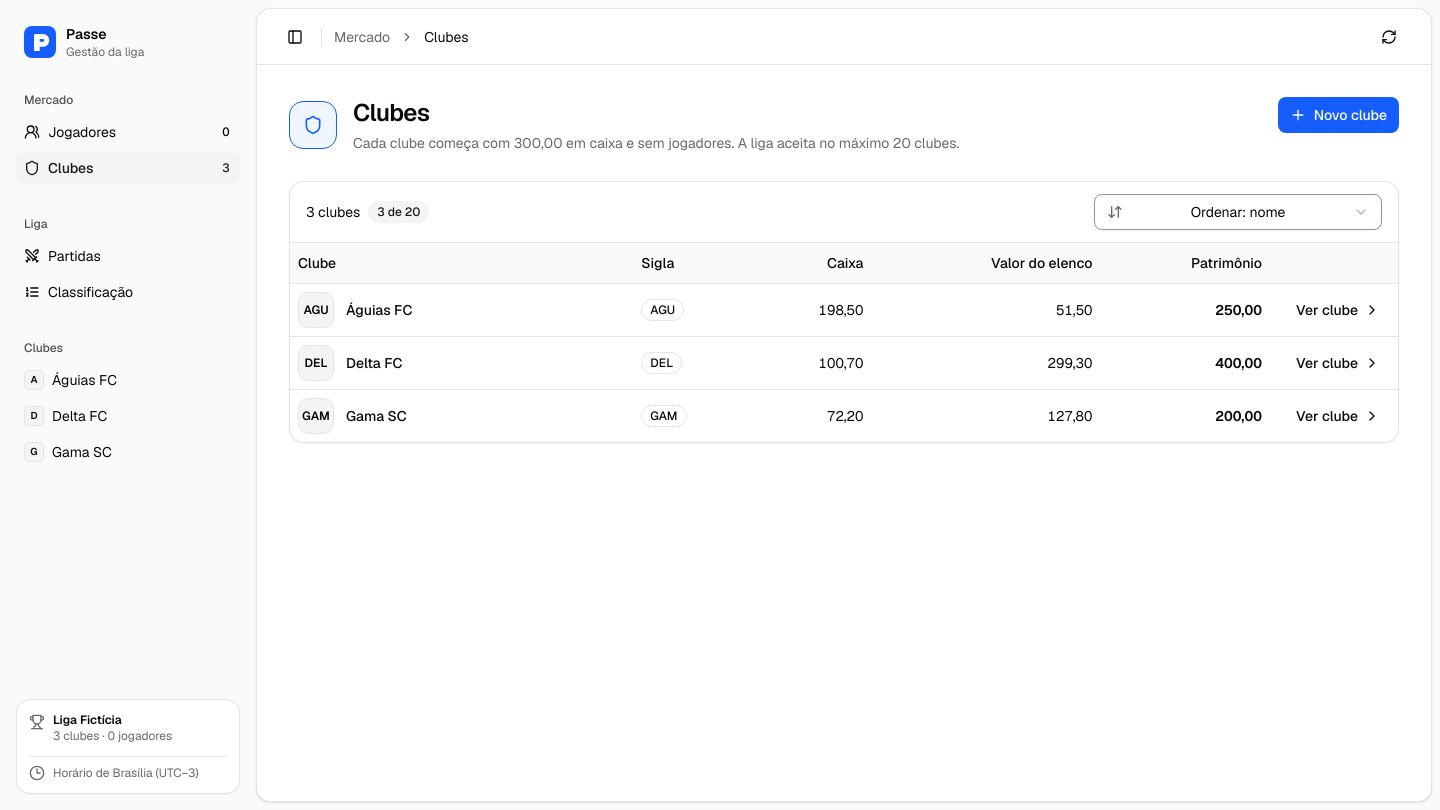
F05 club creation › shows the exact API message for a valid-format acronym that does not match the club name
Expected: the table named "Clubes" is shown, [290,243,1398,442]
Click the button "Novo clube".
click(1338, 115)  # box [1278,97,1399,133]
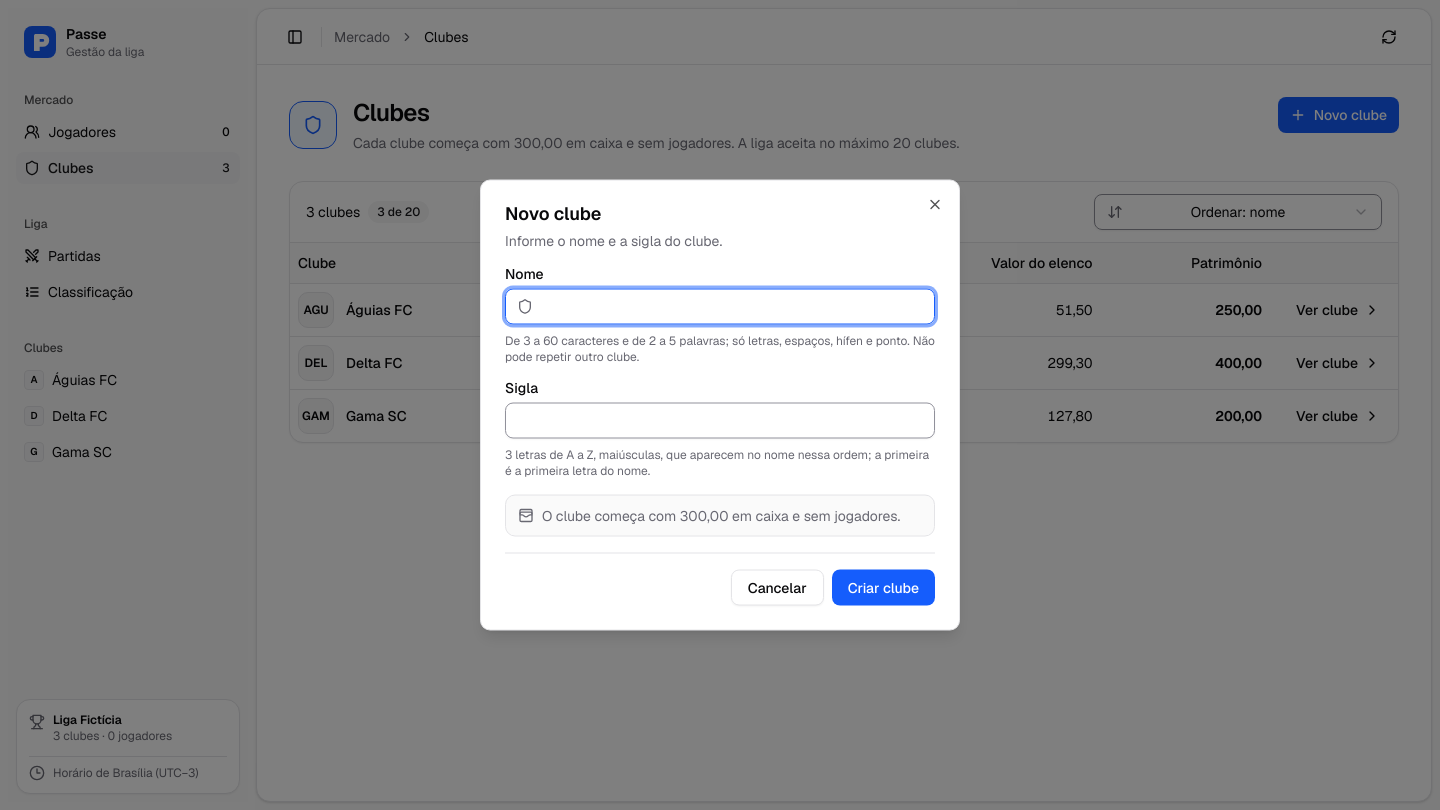
Type "Leões da Serra" into the field labelled "Nome".
click(720, 306); type("Leões da Serra")  # box [505,288,935,324]
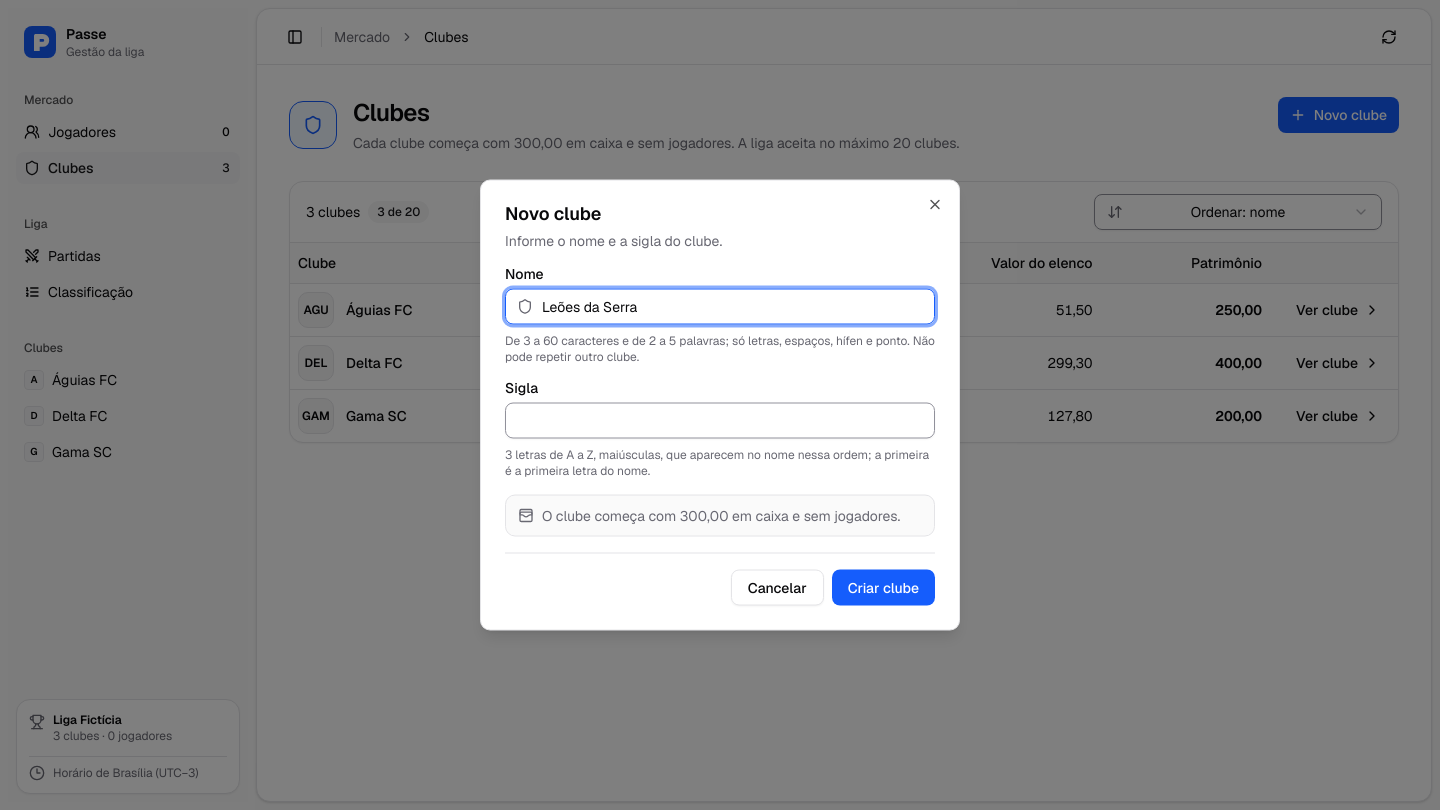
Type "XYZ" into the field labelled "Sigla".
click(720, 420); type("XYZ")  # box [505,402,935,438]
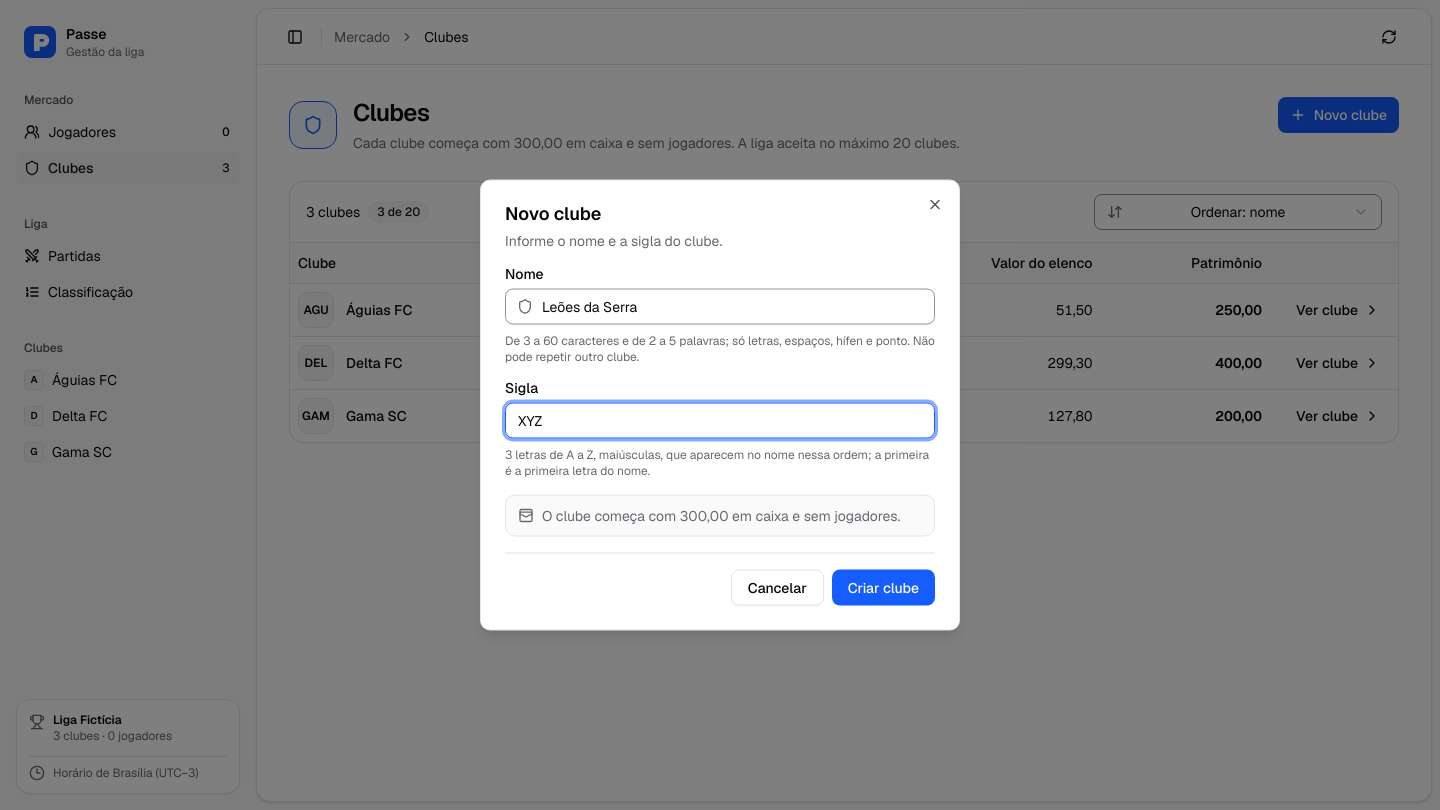
Click the button "Criar clube".
click(883, 588)  # box [832,570,935,606]
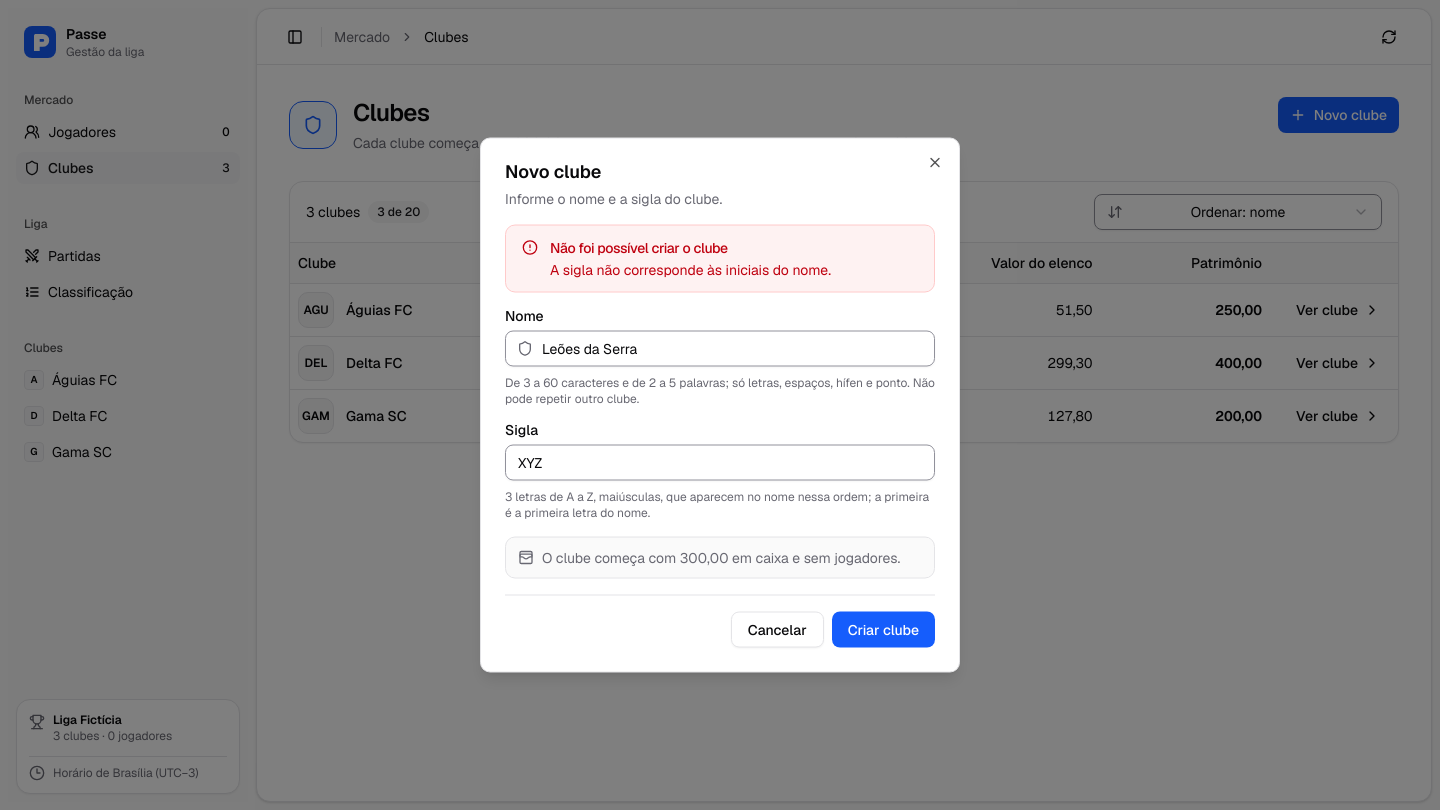
Expected: the dialog "Novo clube" is shown, [480,138,960,672]
Expected: the text "A sigla não corresponde às iniciais do nome." is shown, [550,260,831,278]
